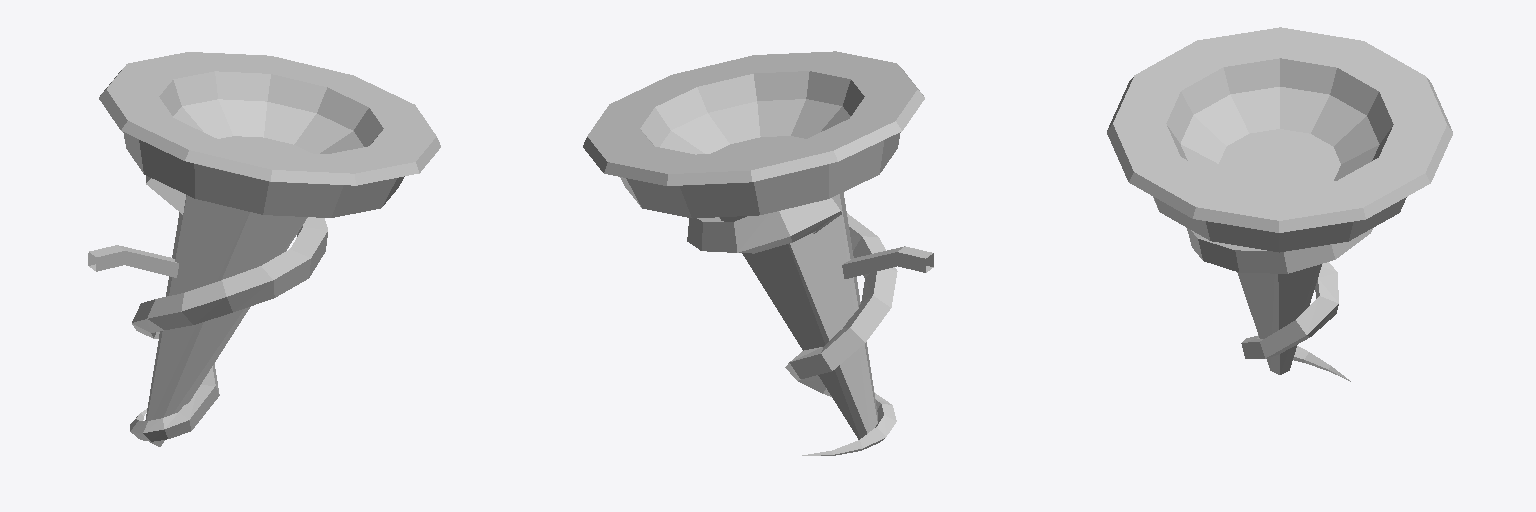
Rendered from torch_12_001.obj.
The picture shows the model from 3 angles: view 1: azimuth 30°, elevation 25°; view 2: azimuth 150°, elevation 25°; view 3: azimuth 270°, elevation 25°; orthographic projection.
Visible parts, largest first — view 1: torch_12_Circle.000_Circle.000; view 2: torch_12_Circle.000_Circle.000; view 3: torch_12_Circle.000_Circle.000.
Part boxes in pixels (x1,y1,x2,y2): torch_12_Circle.000_Circle.000: (88,52,440,446); torch_12_Circle.000_Circle.000: (583,51,933,455); torch_12_Circle.000_Circle.000: (1107,27,1452,381).
Bounding box in the file's own units: 0.6732 × 0.6571 × 0.6216.